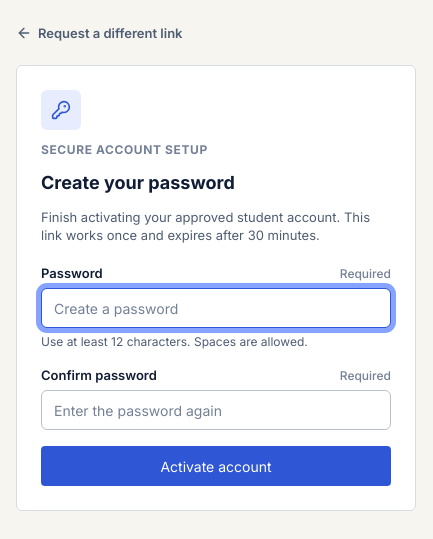
student activation password setup › keeps mismatched passwords on the client and focuses confirmation
In the password field labelled "Password": coordinates (216, 308) [41,288,391,328], type "correct horse battery staple"
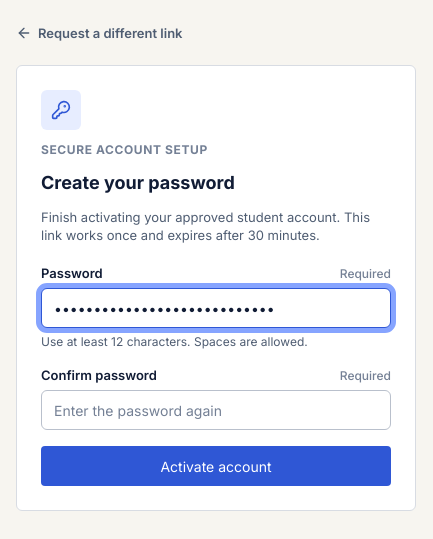
In the password field labelled "Confirm password": coordinates (216, 410) [41,390,391,430], type "different password"
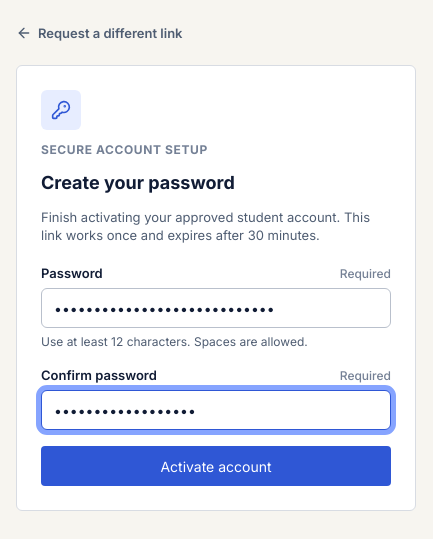
Click the button "Activate account": coordinates (216, 466) [41,446,391,486]
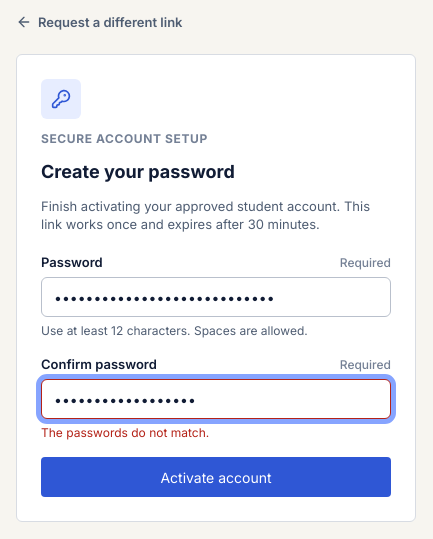
Now the message reads "The passwords do not match.", box [41,425,209,440]
